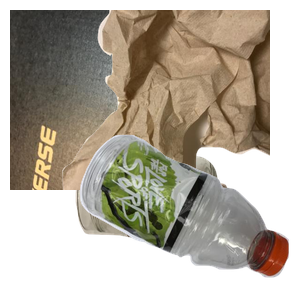cardboard: (10, 10, 217, 190)
glass: (73, 153, 284, 300)
plastic: (77, 132, 300, 300)
trash: (60, 10, 300, 190)
